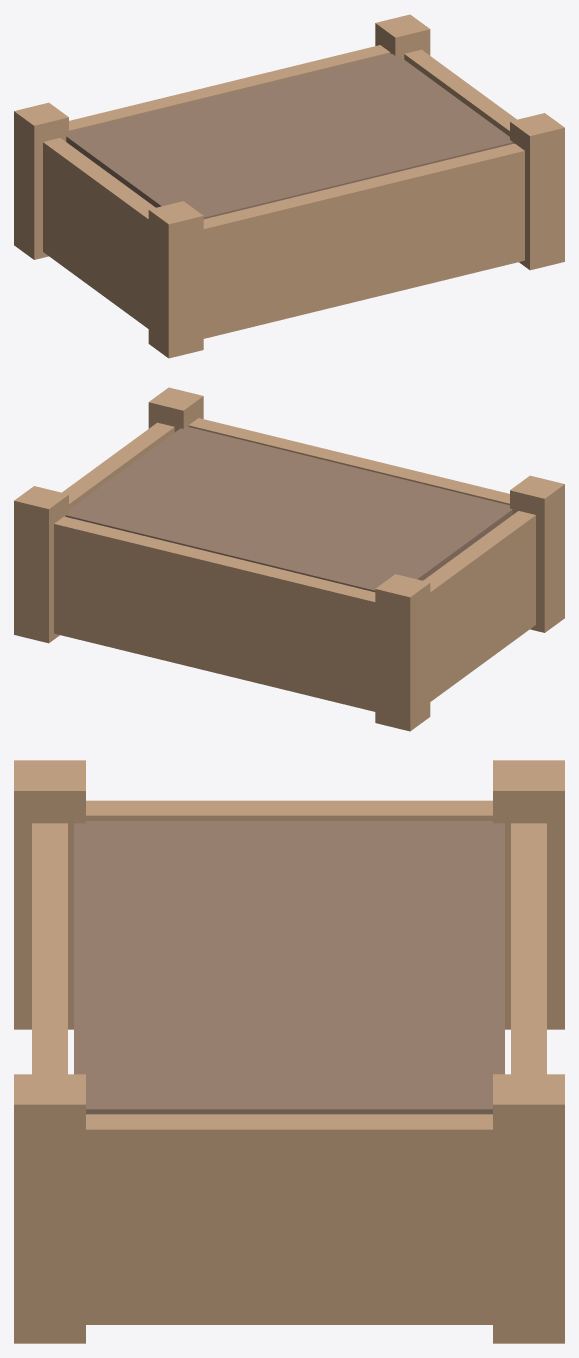
File: raised_bed.glb
The picture shows the model from 3 angles, top to bottom: view 1: azimuth 30°, elevation 25°; view 2: azimuth 150°, elevation 25°; view 3: azimuth 270°, elevation 25°; orthographic projection. The views are drawn at different scales.
Parts seen in each view (by area): view 1: RaisedGardenBed; view 2: RaisedGardenBed; view 3: RaisedGardenBed.
Boxes of the visible parts, x1,y1,x2,y2 form: RaisedGardenBed: (14,14,564,358); RaisedGardenBed: (14,387,564,731); RaisedGardenBed: (14,760,564,1343).
Size of the model in its own units: 1.36 by 0.44 by 0.92.
